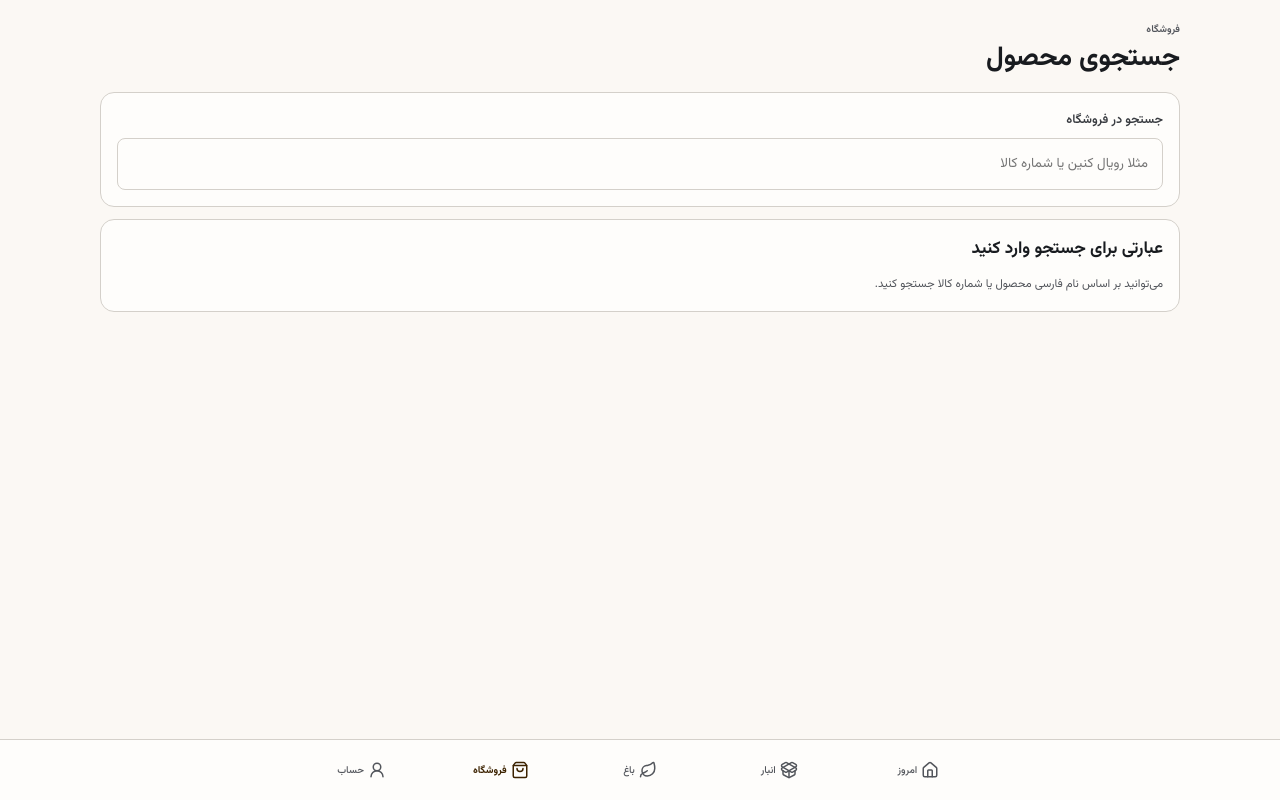
Test: OfferSearch › shows an error state with a retry action on search failure
Type "test" into the field labelled "جستجو در فروشگاه".
click(640, 164); type("test")  # box [117, 138, 1163, 190]
Then press Enter
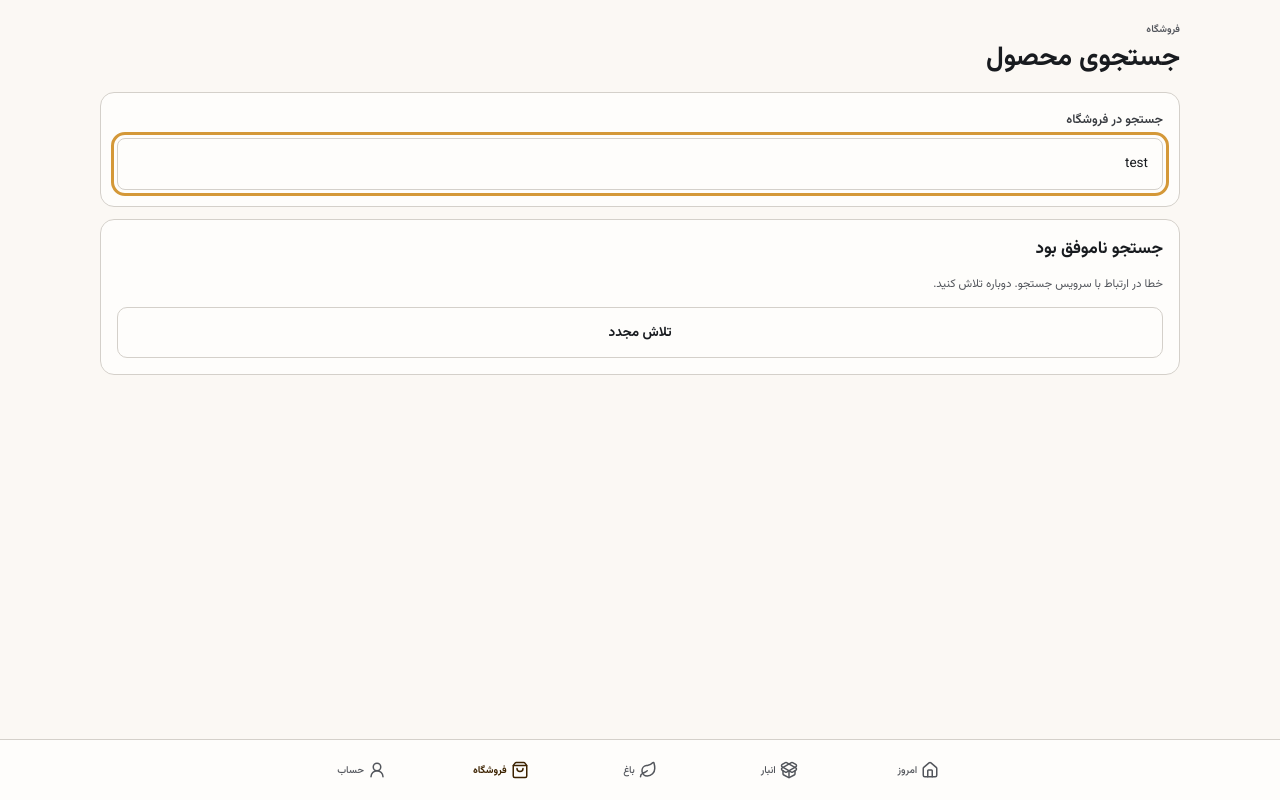
Result: the text "جستجو ناموفق بود" is shown at [1035, 236, 1163, 262]
Result: the button "تلاش مجدد" is shown at [117, 307, 1163, 358]
